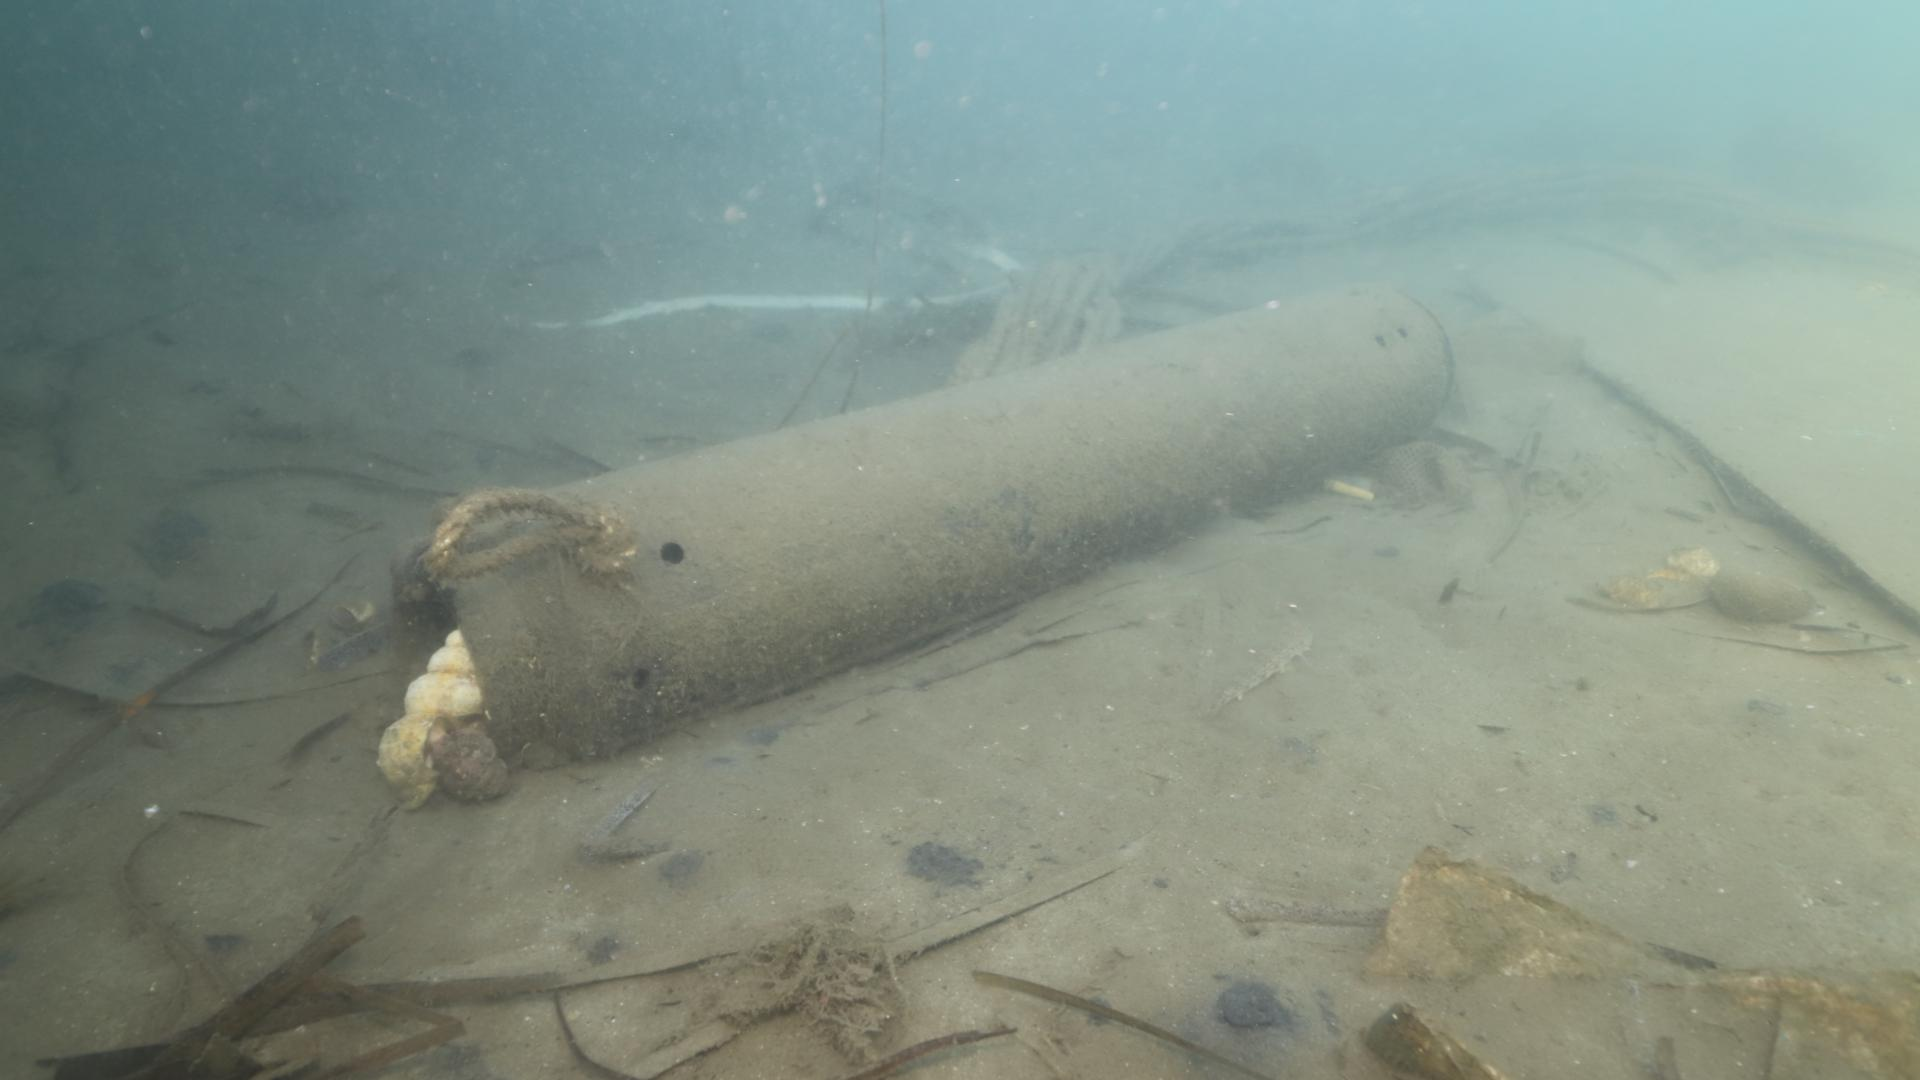bundle of ropes: (948, 171, 1613, 386), (421, 483, 638, 579)
eel fish trap: (384, 276, 1455, 771)
